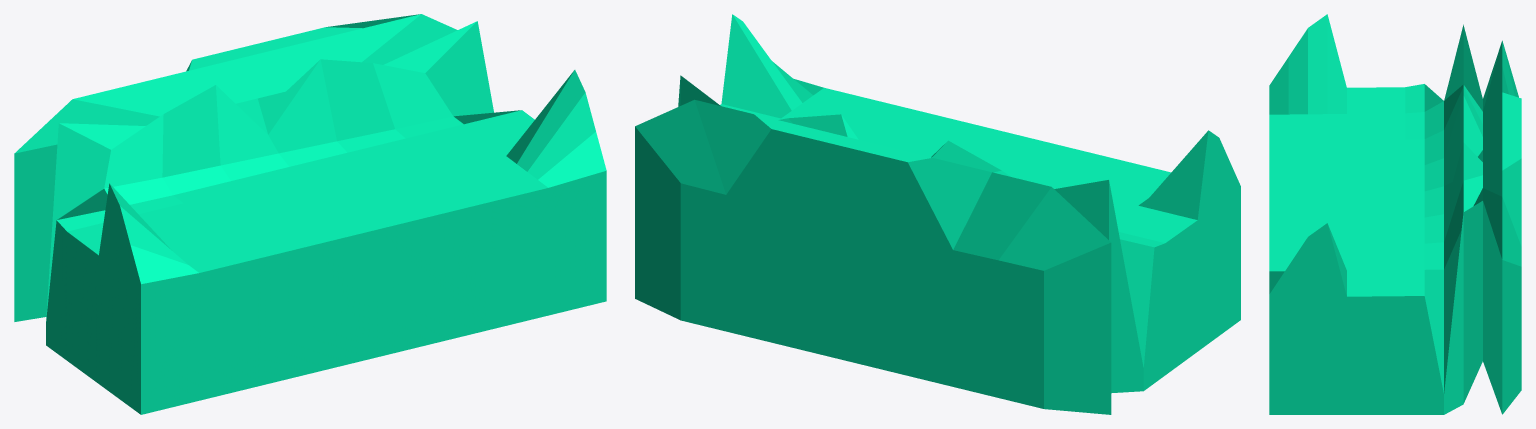
Rendered from bmw_3series_trunk_blender.glb.
3 renders of one model, left to right at view 1: azimuth 30°, elevation 25°; view 2: azimuth 150°, elevation 25°; view 3: azimuth 270°, elevation 25°, orthographic. The views are drawn at different scales.
Parts seen in each view (by area): view 1: BMW3_Trunk; view 2: BMW3_Trunk; view 3: BMW3_Trunk.
Boxes of the visible parts, x1=… form: BMW3_Trunk: x1=14, y1=14, x2=606, y2=414; BMW3_Trunk: x1=635, y1=14, x2=1240, y2=414; BMW3_Trunk: x1=1269, y1=14, x2=1521, y2=414.
Bounding box in the file's own units: 0.0112 × 0.0048 × 0.00572.
